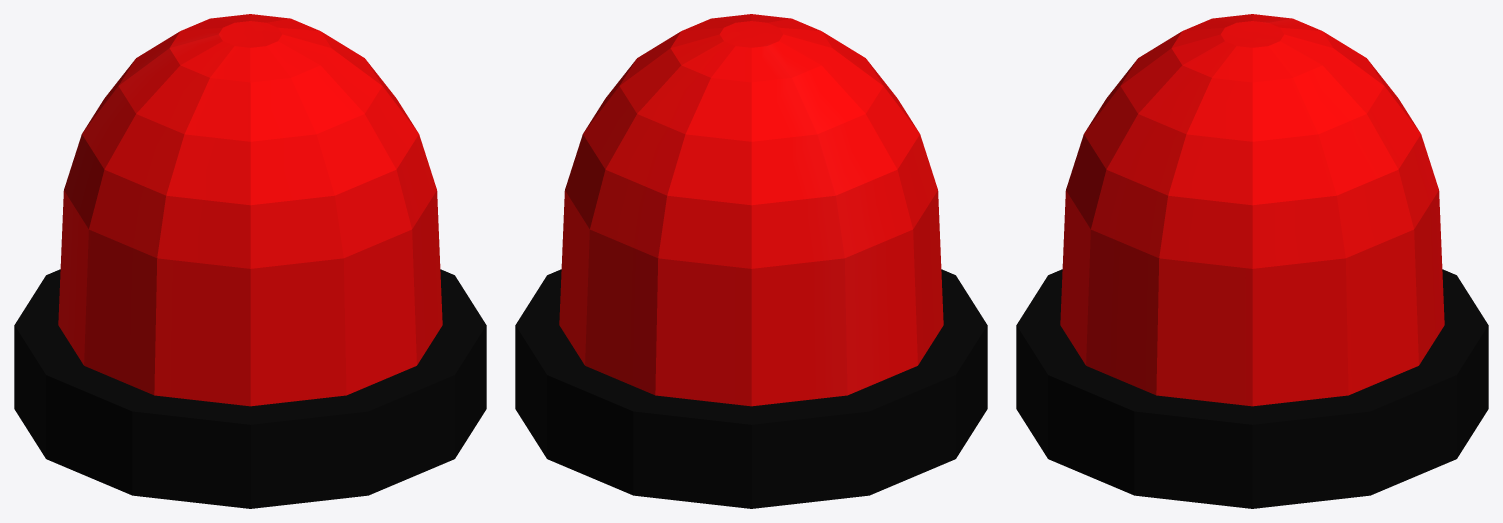
The model's file is lampe.fbx.
The picture shows the model from 3 angles, left to right: view 1: azimuth 30°, elevation 25°; view 2: azimuth 150°, elevation 25°; view 3: azimuth 270°, elevation 25°; orthographic projection.
Visible parts, largest first — view 1: Cylinder; view 2: Cylinder; view 3: Cylinder.
Part boxes in pixels (x1,y1,x2,y2): Cylinder: (14, 14, 486, 508); Cylinder: (515, 14, 987, 508); Cylinder: (1016, 14, 1488, 508).
Bounding box in the file's own units: 200 × 175 × 200.
Materials: 1 (1 with a texture image).
